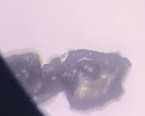microplastic: (54, 48, 133, 111), (1, 52, 60, 107), (35, 57, 64, 96)
